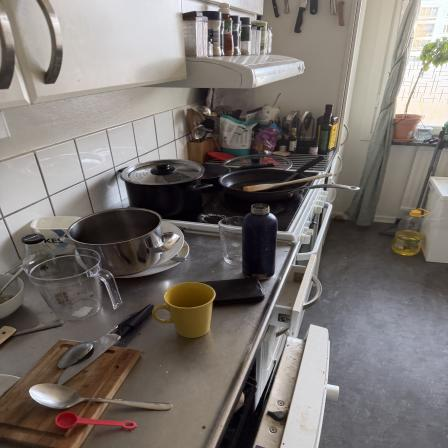blue_bottle: (242, 206, 279, 278)
phone: (184, 274, 269, 307)
yellow_cup: (158, 282, 218, 340)
